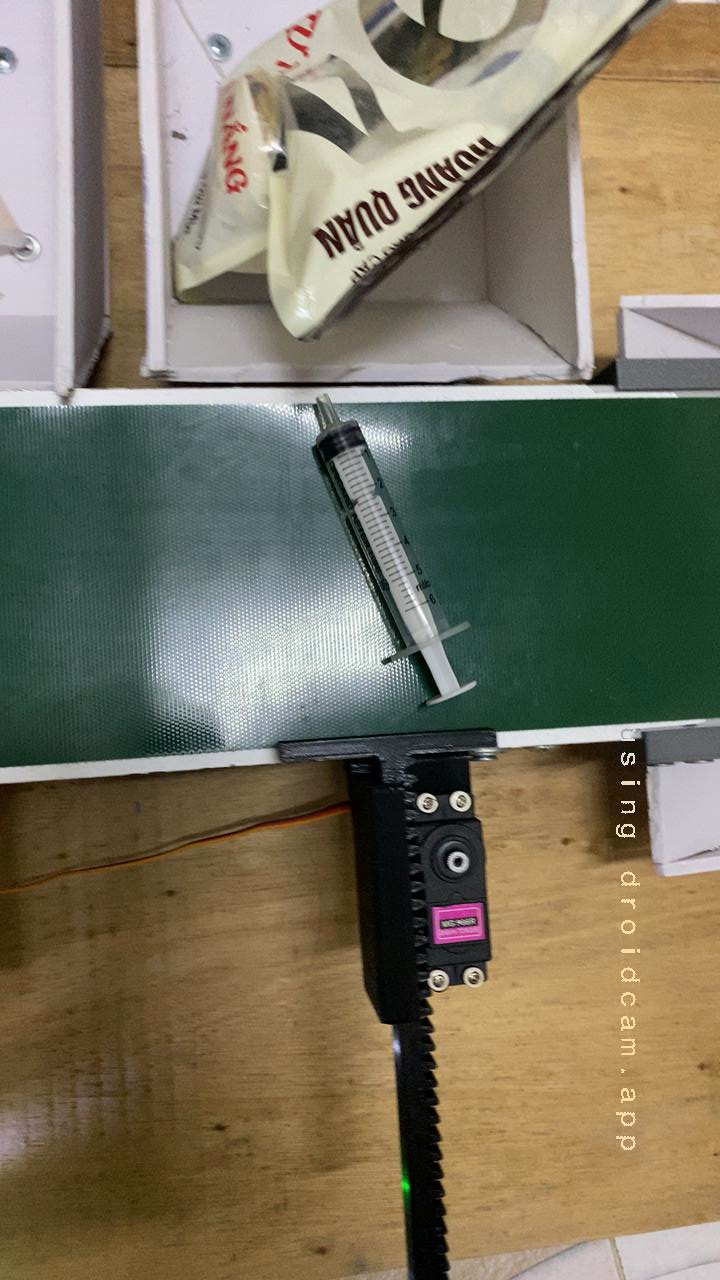syringe: (273, 397, 496, 729)
